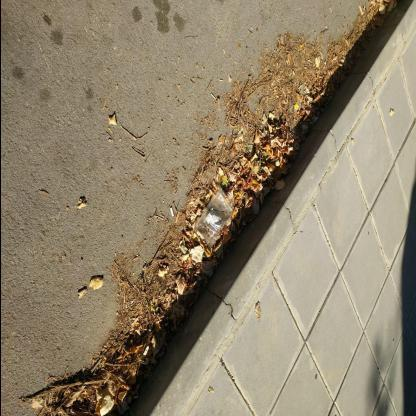plastik: (195, 190, 235, 248)
